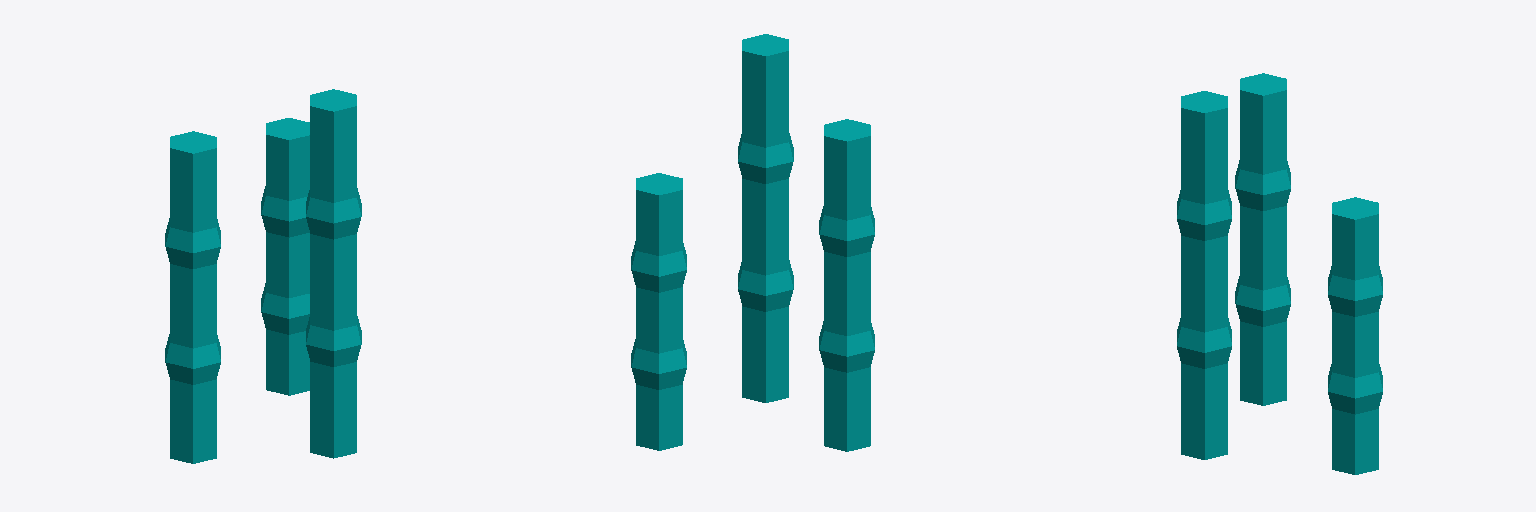
3 views of the same model, side by side, from view 1: azimuth 30°, elevation 25°; view 2: azimuth 150°, elevation 25°; view 3: azimuth 270°, elevation 25° (orthographic).
Parts seen in each view (by area): view 1: bamboo; view 2: bamboo; view 3: bamboo.
Part boxes in pixels (x1,y1,x2,y2): bamboo: (165, 89, 361, 463); bamboo: (631, 34, 874, 451); bamboo: (1177, 73, 1382, 474).
Bounding box in the file's own units: 3.4 × 5.7 × 3.08.
Materials: 1 (1 with a texture image).